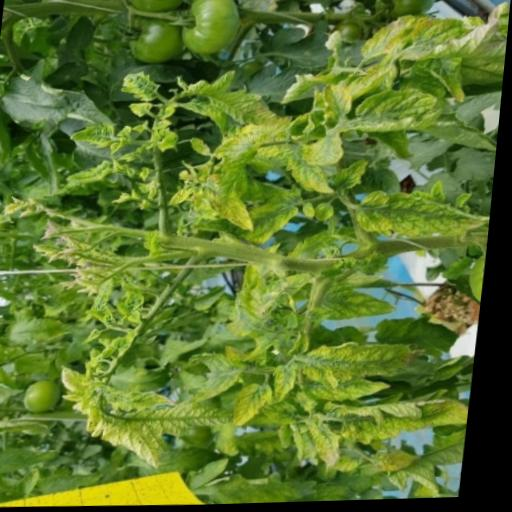Yellow Leaf Curl Virus: (360, 0, 510, 71), (95, 399, 241, 470), (349, 186, 497, 245), (333, 395, 479, 451), (299, 336, 436, 392), (186, 67, 295, 131), (350, 89, 462, 137), (308, 409, 358, 477), (282, 146, 341, 203), (206, 189, 278, 235), (320, 288, 408, 324), (241, 378, 282, 428), (306, 130, 352, 172), (320, 81, 364, 115), (72, 122, 122, 150)
